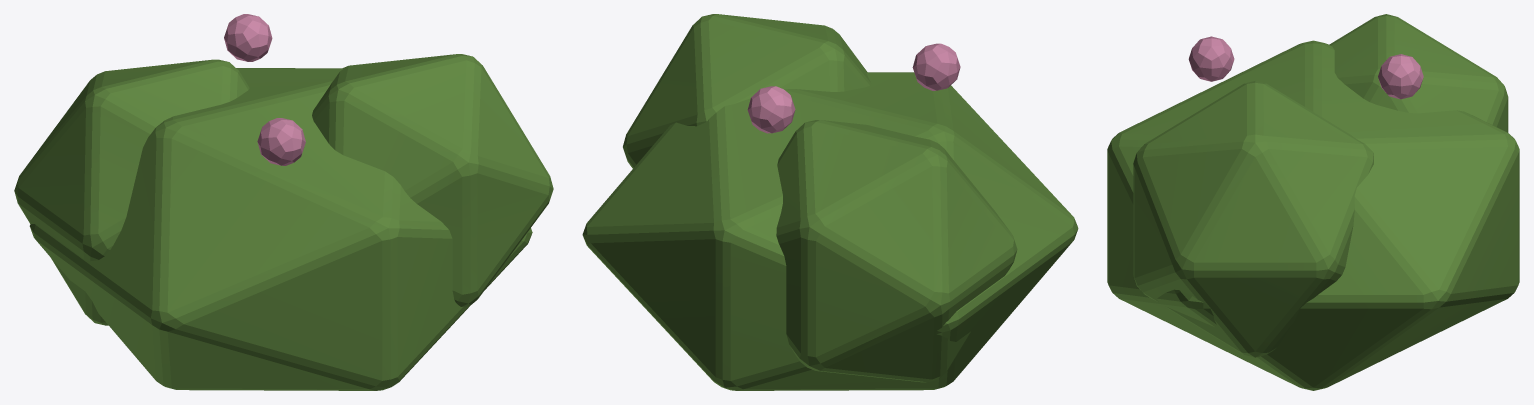
The model's file is prop_shrub.glb.
3 renders of one model, left to right at view 1: azimuth 30°, elevation 25°; view 2: azimuth 150°, elevation 25°; view 3: azimuth 270°, elevation 25°, orthographic. The views are drawn at different scales.
Visible parts, largest first — view 1: prop_shrub_part_0; view 2: prop_shrub_part_0; view 3: prop_shrub_part_0.
Part boxes in pixels (bbox=[...]): prop_shrub_part_0: bbox=[14, 14, 553, 390]; prop_shrub_part_0: bbox=[582, 14, 1078, 390]; prop_shrub_part_0: bbox=[1107, 14, 1519, 390].
Size of the model in its own units: 1.49 by 1.1 by 1.42.
